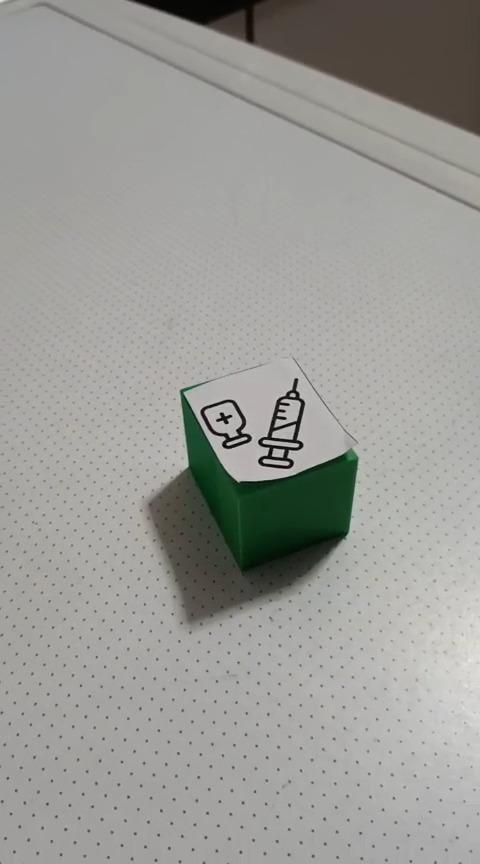antiseptic cream: (178, 353, 360, 572)
